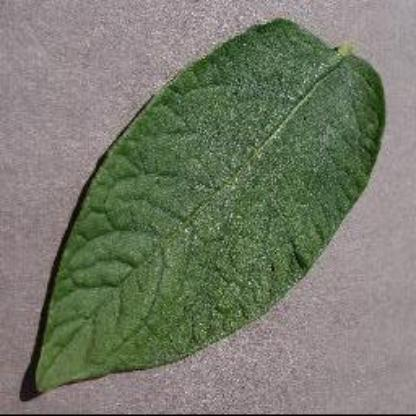Healthy-plant: (21, 18, 384, 398)
